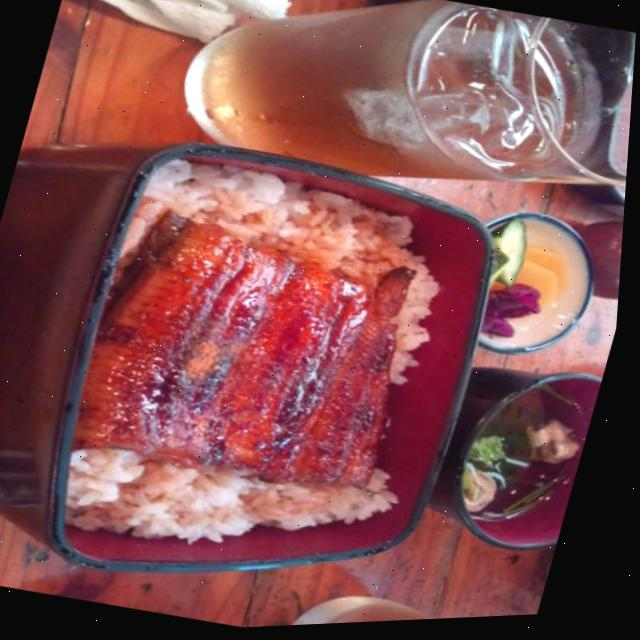汤锅炖物: (443, 371, 605, 558)
